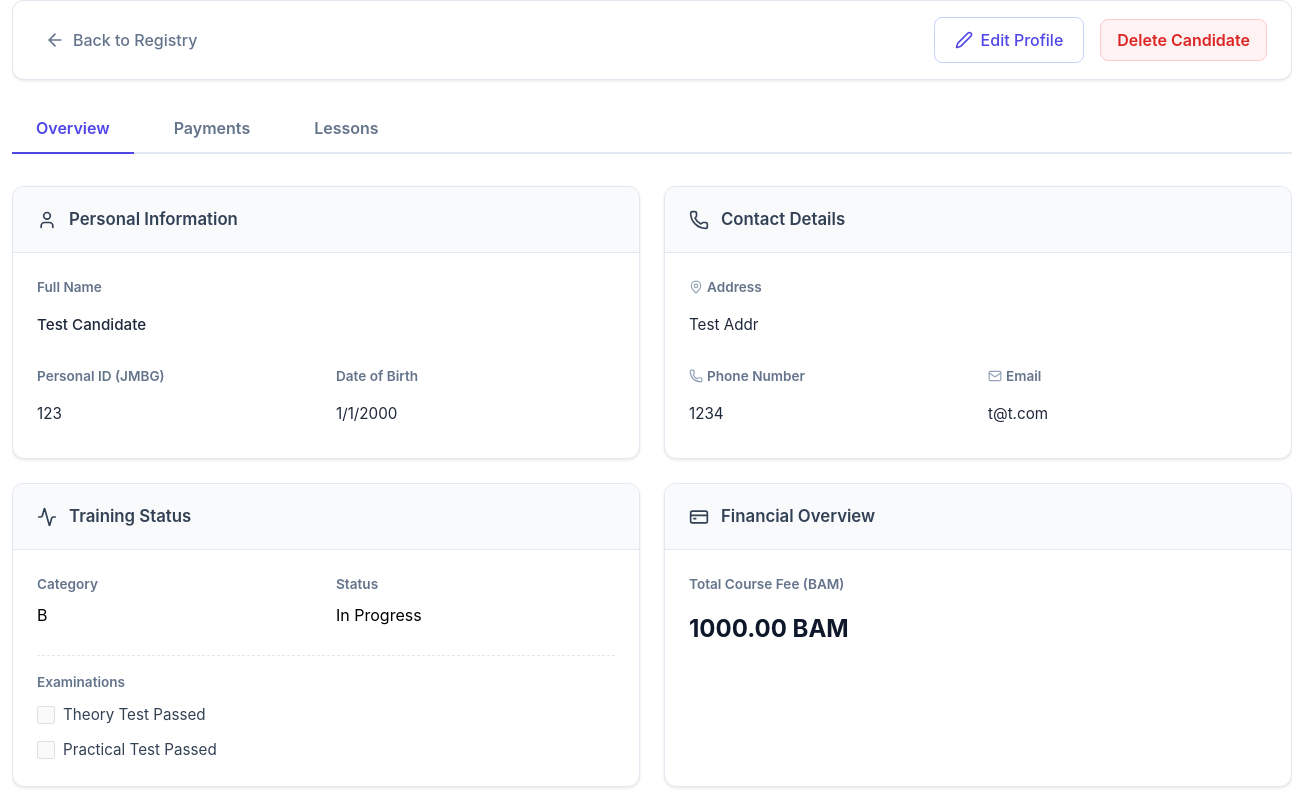
CandidateProfile Component › allows entering edit mode
Expected: the text "Test Candidate" is shown, [37, 315, 146, 334]
Click the button "Edit Profile": (1009, 40) [934, 17, 1084, 63]
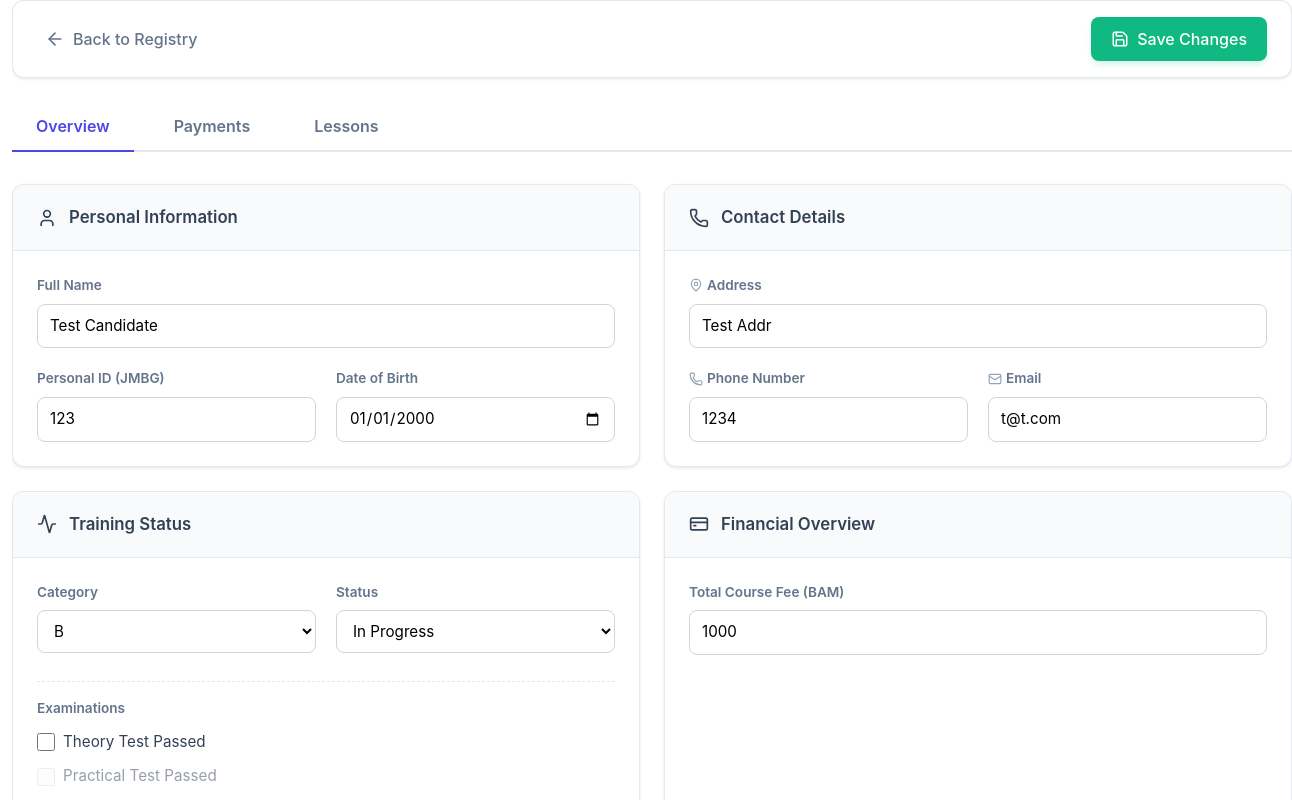
Expected: the button "Save Changes" is shown, [1091, 17, 1267, 61]
